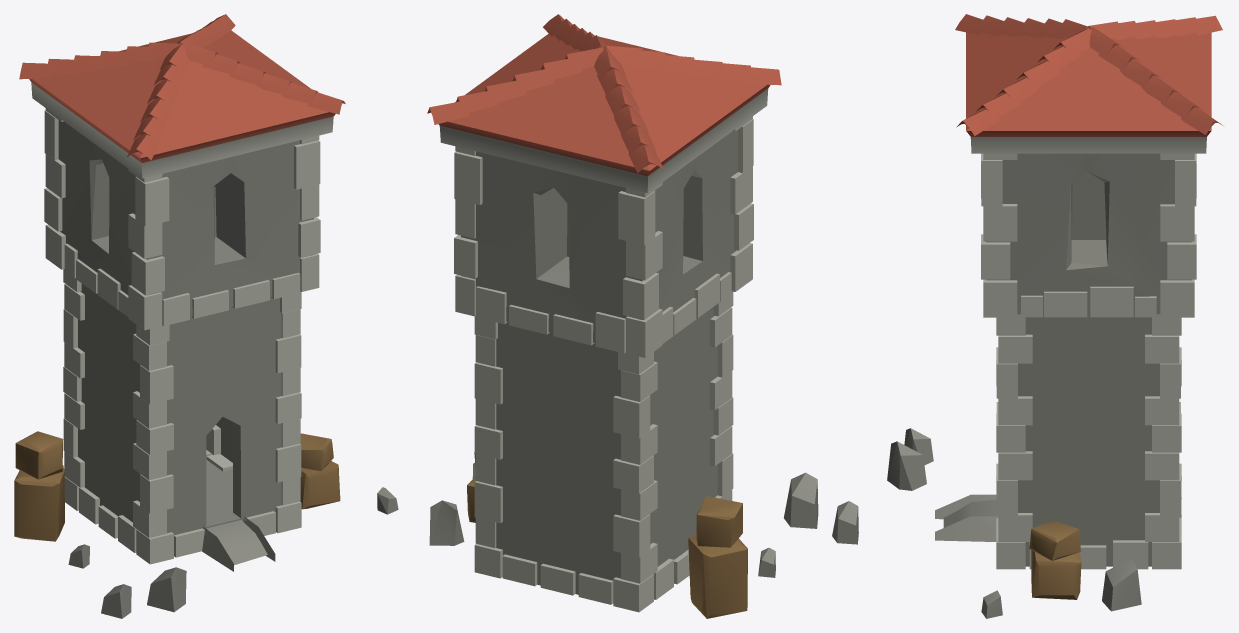
File: LOD1_WatchTower.fbx
3 views of the same model, side by side, from view 1: azimuth 30°, elevation 25°; view 2: azimuth 150°, elevation 25°; view 3: azimuth 270°, elevation 25° (orthographic). The views are drawn at different scales.
Visible parts, largest first — view 1: WatchTower_SecondAge_Level1; view 2: WatchTower_SecondAge_Level1; view 3: WatchTower_SecondAge_Level1.
Boxes of the visible parts, bbox=[...] form: WatchTower_SecondAge_Level1: bbox=[14, 14, 398, 618]; WatchTower_SecondAge_Level1: bbox=[427, 14, 858, 618]; WatchTower_SecondAge_Level1: bbox=[887, 14, 1222, 618].
Size of the model in its own units: 85.78 by 120 by 72.17.
